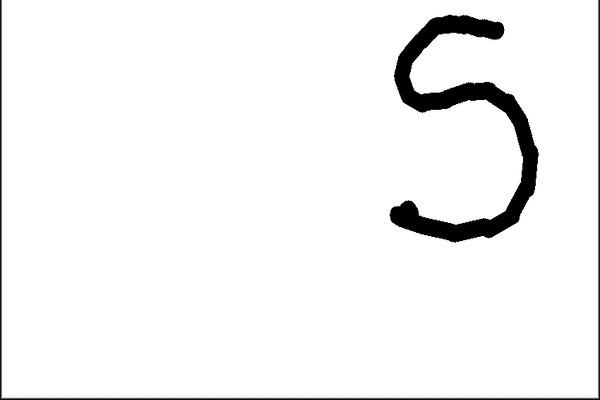S: (375, 4, 549, 251)
